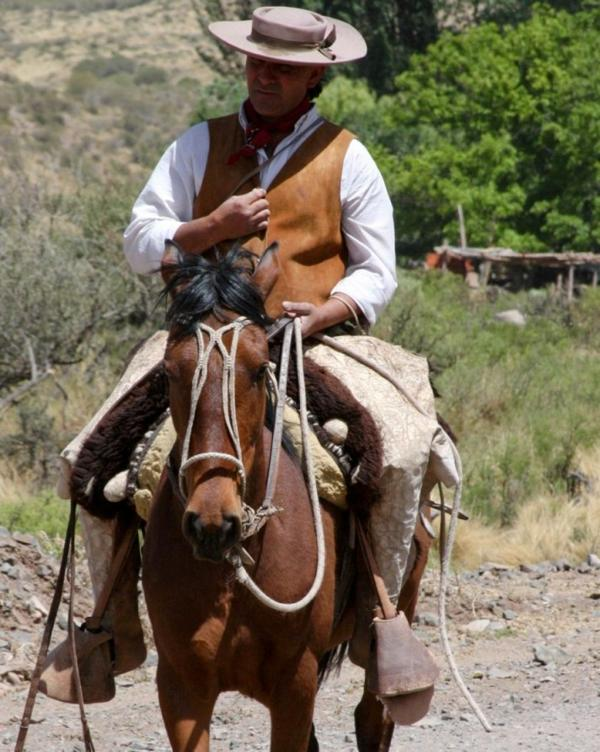person: (61, 6, 438, 729)
